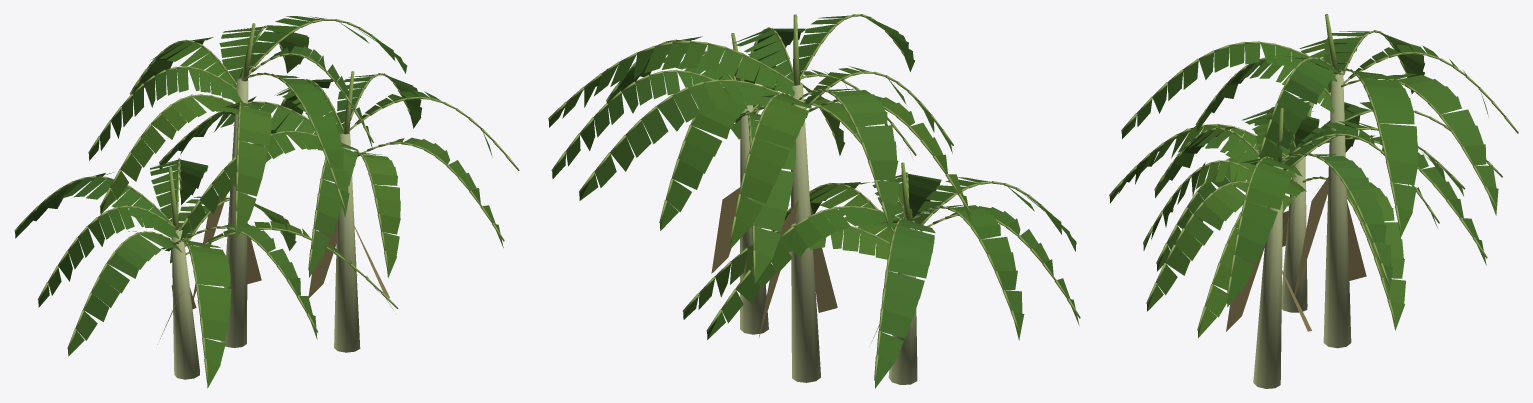
File: banana_clump.glb
3 renders of one model, left to right at view 1: azimuth 30°, elevation 25°; view 2: azimuth 150°, elevation 25°; view 3: azimuth 270°, elevation 25°, orthographic. The views are drawn at different scales.
Parts seen in each view (by area): view 1: banana_clump; view 2: banana_clump; view 3: banana_clump.
Boxes of the visible parts, x1=… form: banana_clump: x1=14, y1=16, x2=519, y2=388; banana_clump: x1=548, y1=14, x2=1080, y2=388; banana_clump: x1=1109, y1=14, x2=1518, y2=388.
Bounding box in the file's own units: 4.94 × 3.43 × 3.79.
